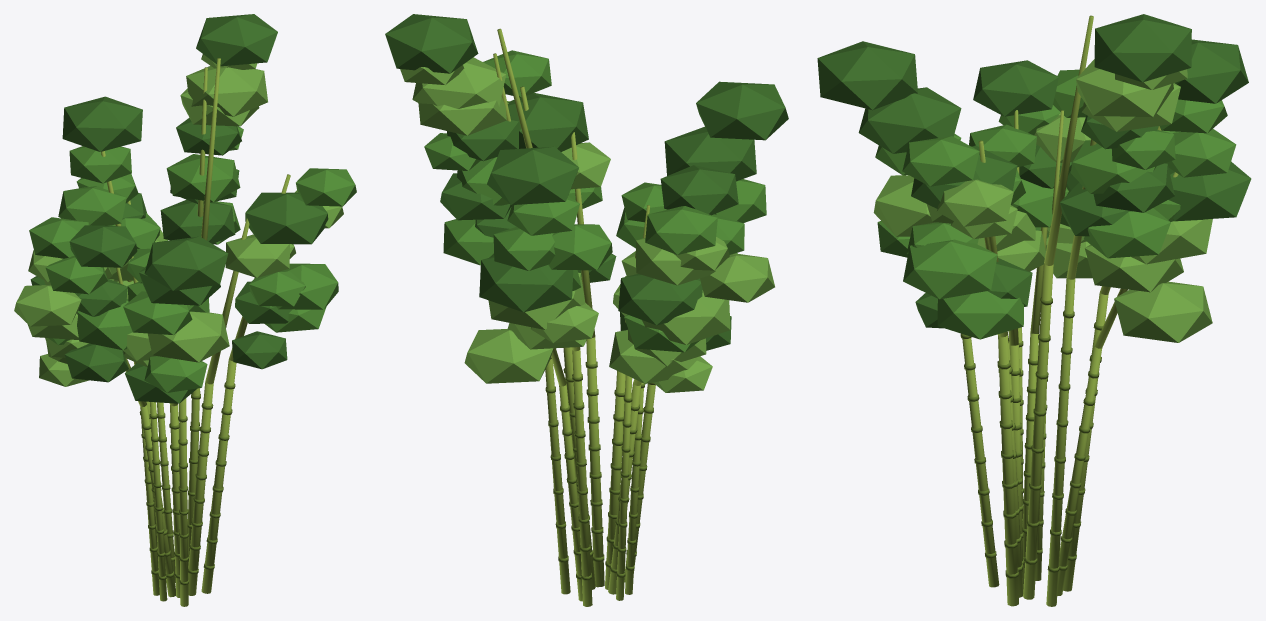
Rendered from bamboo_a.glb.
3 renders of one model, left to right at view 1: azimuth 30°, elevation 25°; view 2: azimuth 150°, elevation 25°; view 3: azimuth 270°, elevation 25°, orthographic. The views are drawn at different scales.
Parts seen in each view (by area): view 1: Main; view 2: Main; view 3: Main.
Part boxes in pixels (x1,y1,x2,y2): Main: [14, 14, 356, 606]; Main: [385, 14, 788, 606]; Main: [817, 14, 1251, 606].
Size of the model in its own units: 4 by 6.69 by 4.15.
